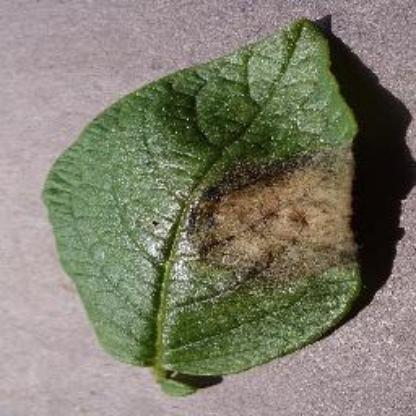Late-Blight: (27, 8, 381, 400)
